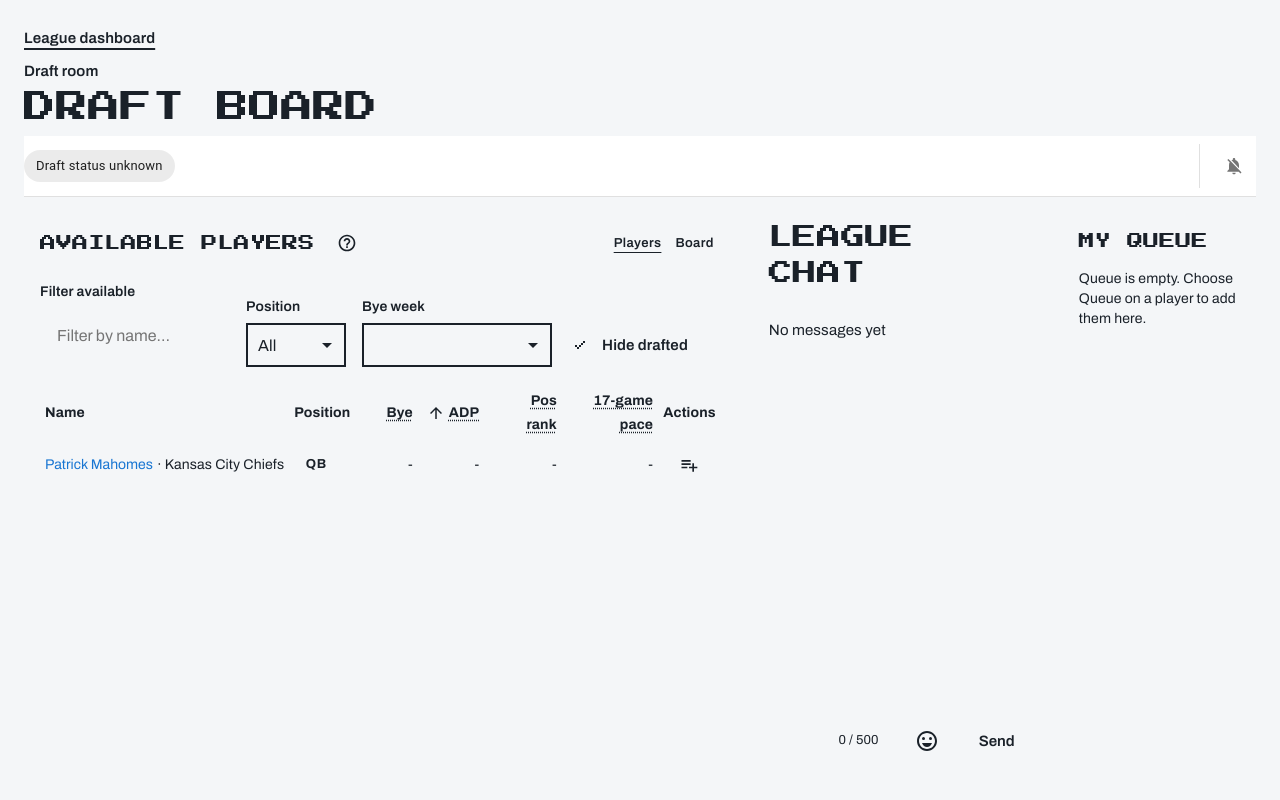
it: a pane the manager chose is never overridden afterwards
The width and height of the screenshot is (1280, 800).
expect the button "Patrick Mahomes" is shown: met, box [45,443,153,487]
Click the button "Board": (694, 243) [667,221,721,265]
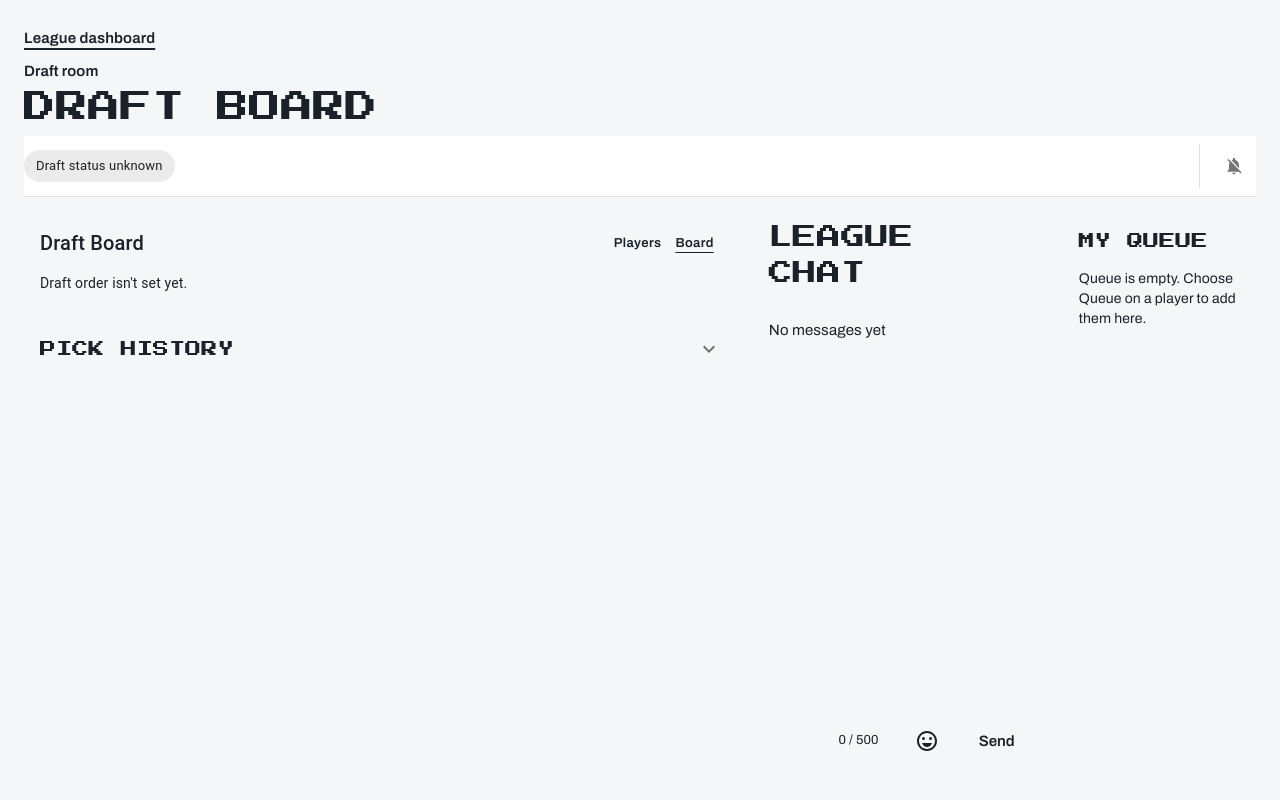
Click the button "Players": (638, 243) [607,221,668,265]
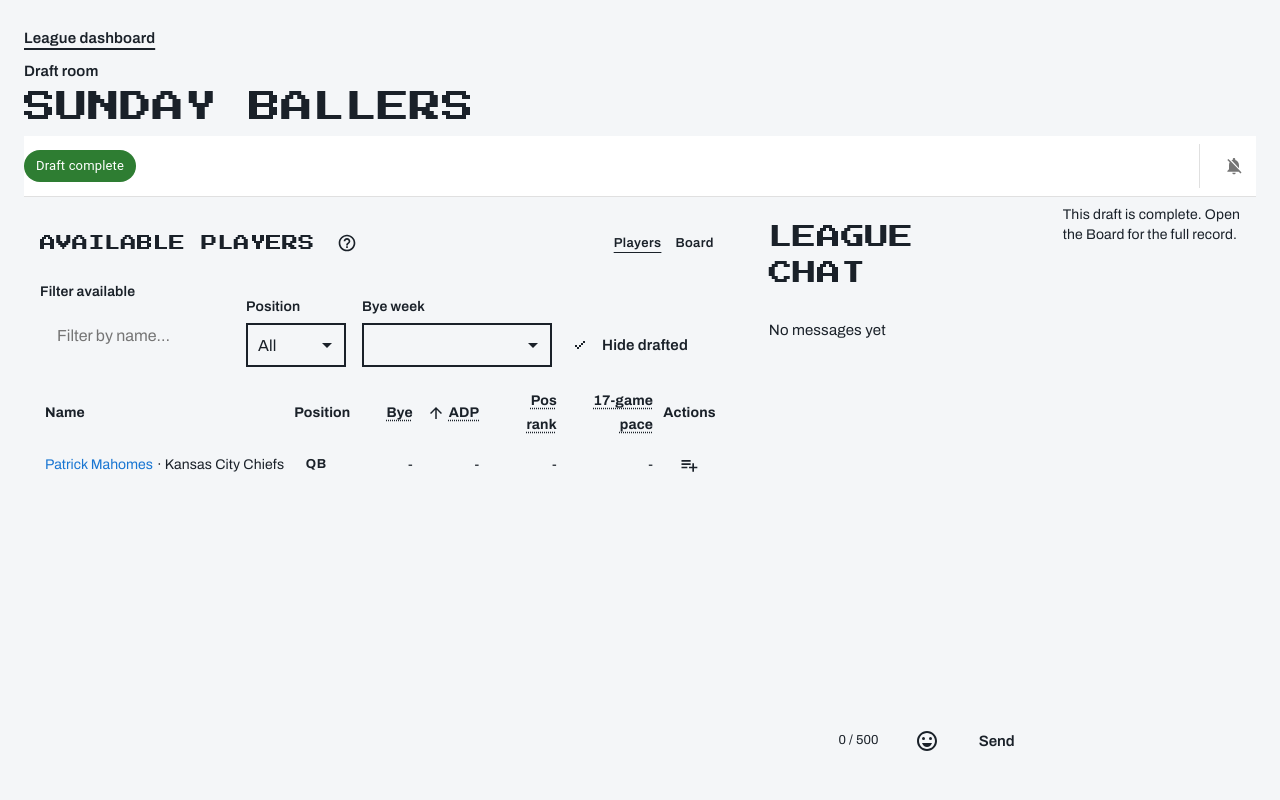
expect the element "Available Players" is shown: met, box [40,221,721,487]
expect the heading "Draft Board" is gone: met
